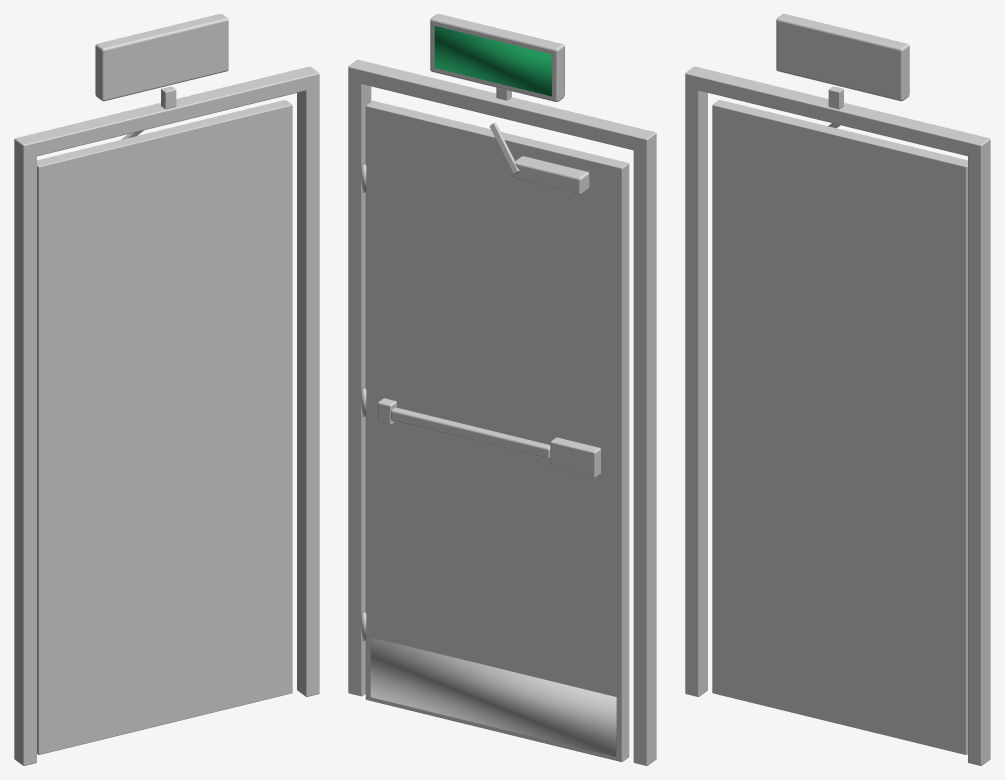
File: ExitDoor.fbx
The picture shows the model from 3 angles, left to right: view 1: azimuth 30°, elevation 25°; view 2: azimuth 150°, elevation 25°; view 3: azimuth 330°, elevation 25°; orthographic projection.
Visible parts, largest first — view 1: Exit Door; view 2: Exit Door, Exit Sign Face; view 3: Exit Door.
Boxes of the visible parts, <box> form: Exit Door: <box>14,14,319,765</box>; Exit Door: <box>348,14,656,765</box>; Exit Sign Face: <box>434,26,551,96</box>; Exit Door: <box>685,14,990,765</box>.
Bounding box in the file's own units: 1.05 × 2.34 × 0.156.
